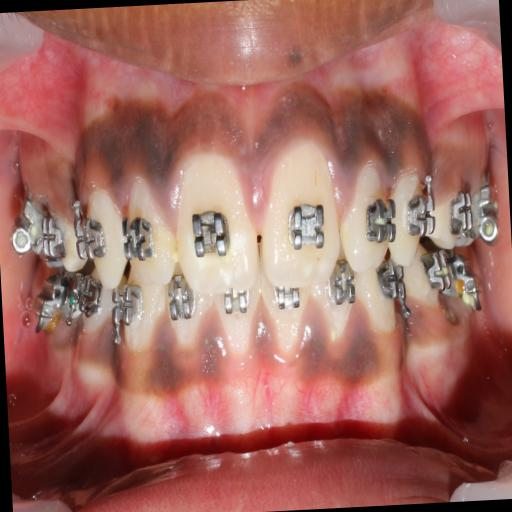correct_brace: (186, 196, 234, 265), (282, 199, 334, 253), (122, 204, 160, 266), (72, 211, 108, 269), (405, 188, 439, 242), (365, 194, 396, 238)
incorrect_brace: (118, 164, 176, 297), (336, 153, 396, 274)
